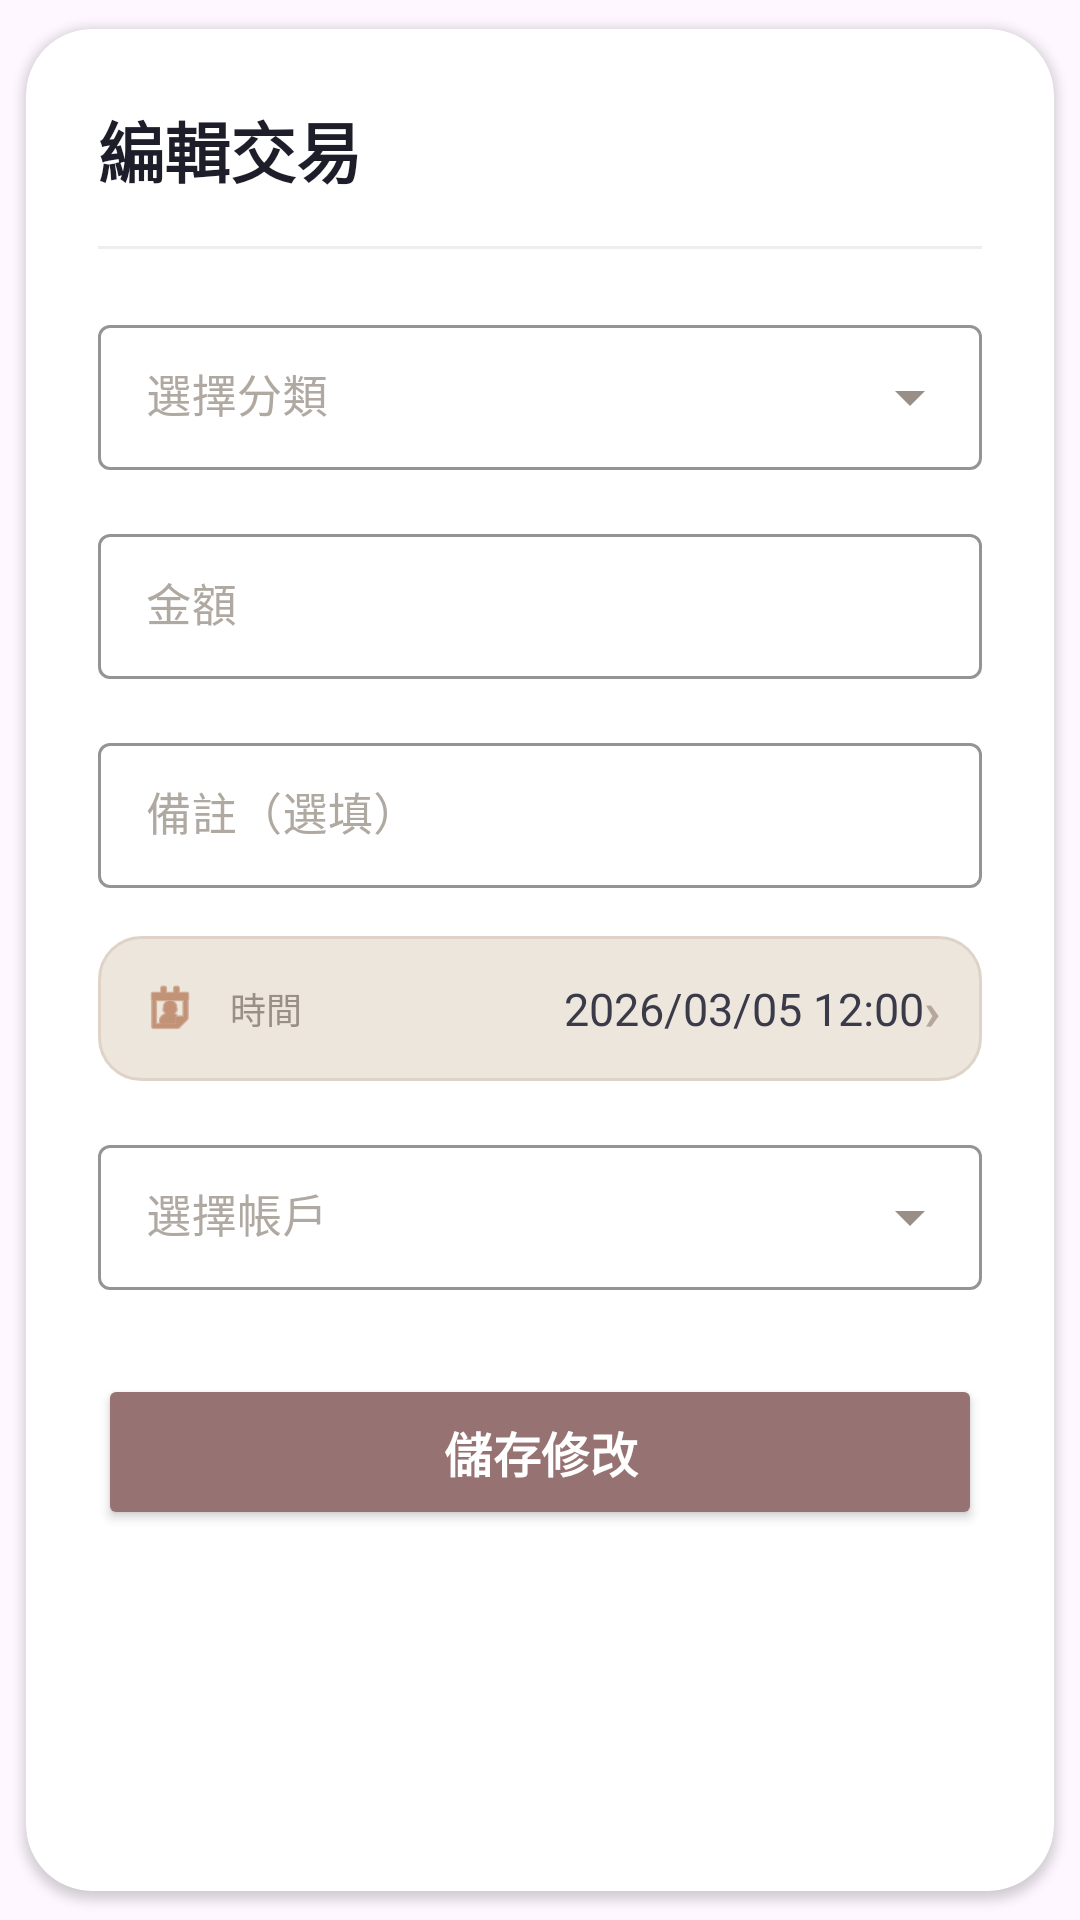

Icons on this 1080x1920 Android screen, each with the point to tap as (x,y):
calendar: (170,1007)
